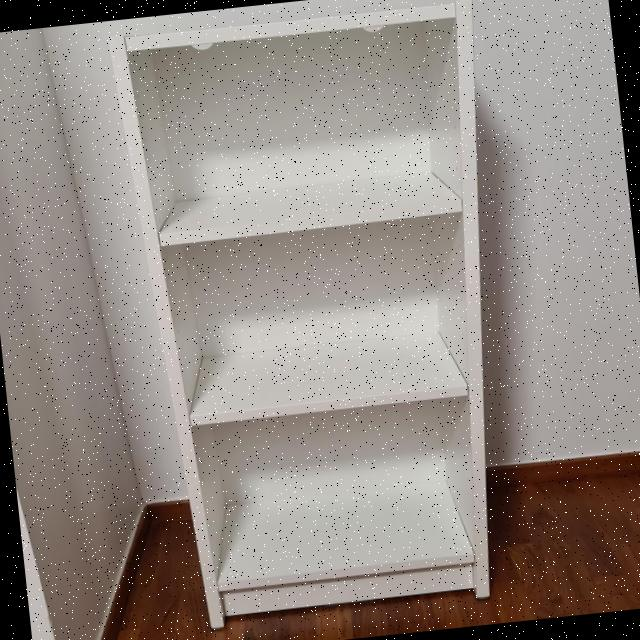Shelf: (95, 0, 538, 640)
